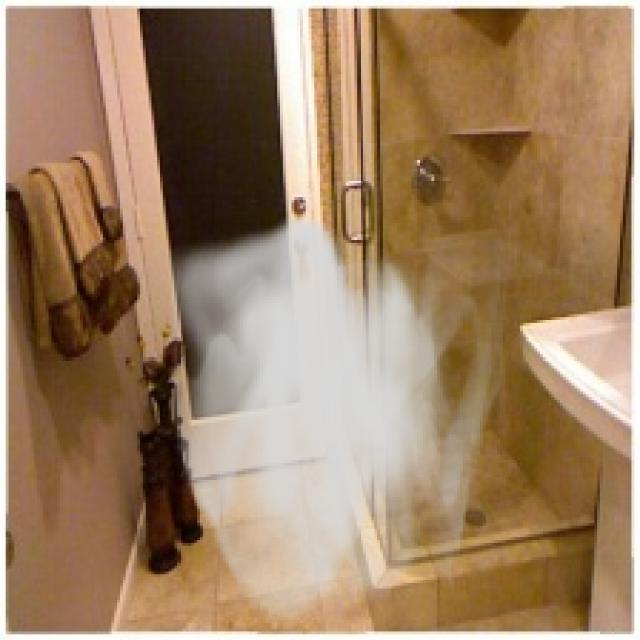Smoke: (160, 212, 509, 637)
